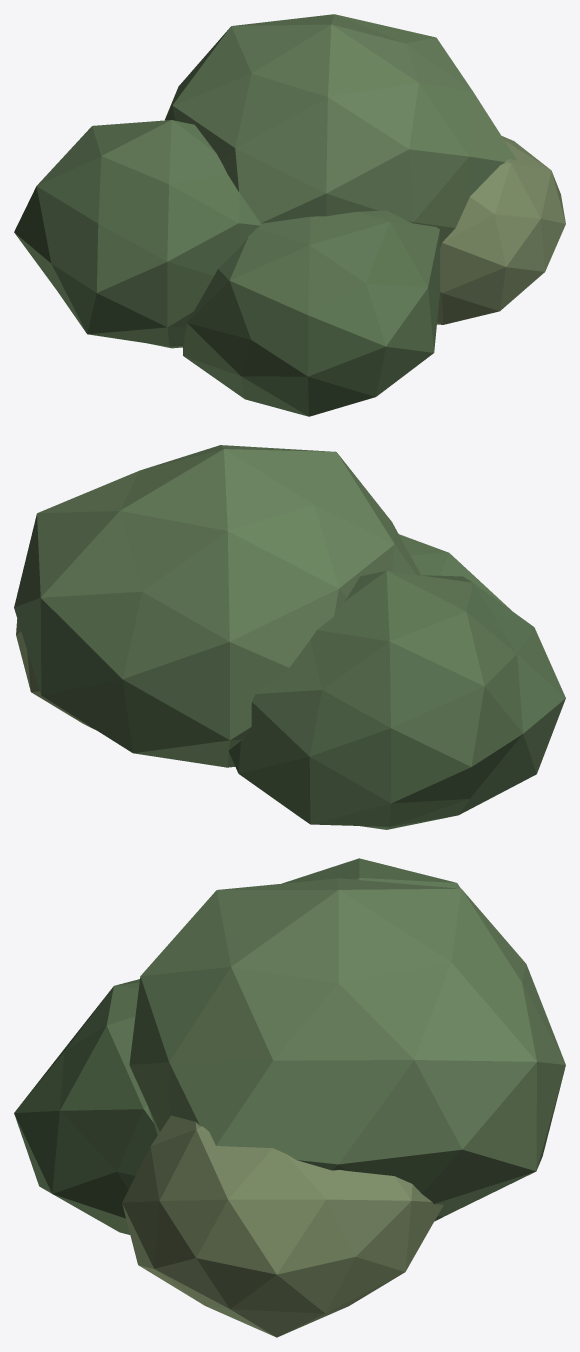
File: shrub.glb
3 views of the same model, one above another, from view 1: azimuth 30°, elevation 25°; view 2: azimuth 150°, elevation 25°; view 3: azimuth 270°, elevation 25° (orthographic). The views are drawn at different scales.
Parts seen in each view (by area): view 1: surface; view 2: surface; view 3: surface.
Boxes of the visible parts, box(x1,y1,x2,y2) form: surface: box(14, 14, 565, 416); surface: box(14, 445, 565, 829); surface: box(14, 858, 565, 1337).
Bounding box in the file's own units: 1.7 × 1.03 × 1.34.
